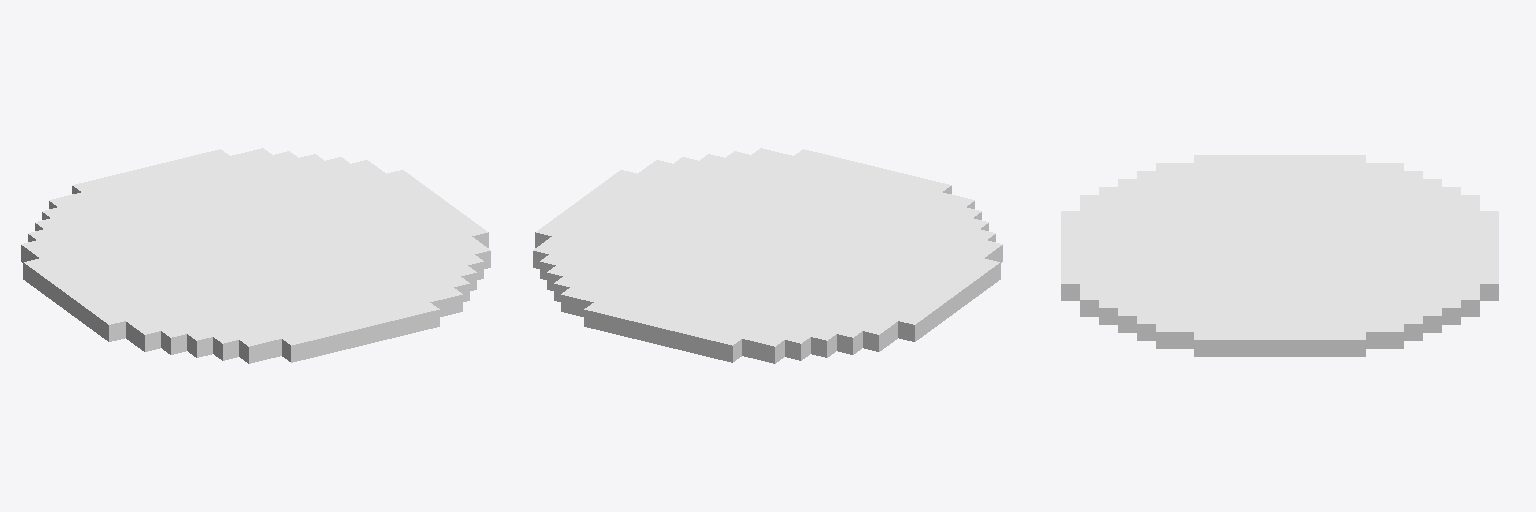
The model's file is tomato.obj.
3 renders of one model, left to right at view 1: azimuth 30°, elevation 25°; view 2: azimuth 150°, elevation 25°; view 3: azimuth 270°, elevation 25°, orthographic.
Size of the model in its own units: 23 by 1 by 23.